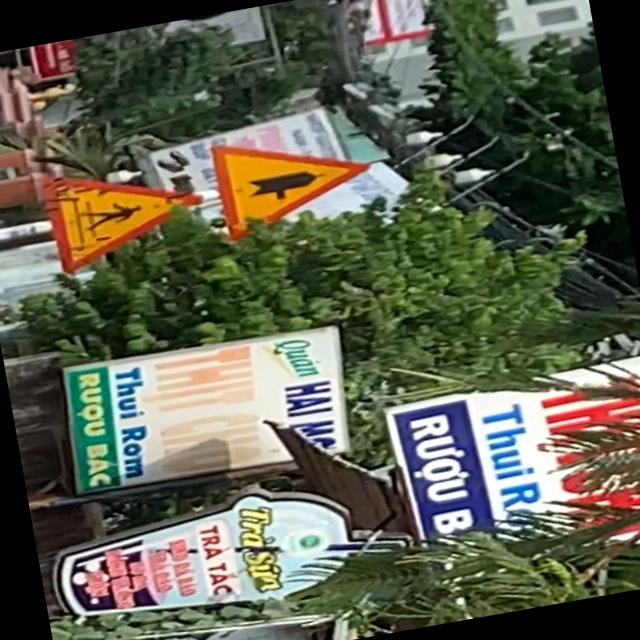W-207b: (208, 119, 380, 242)
W-224: (41, 152, 214, 274)
